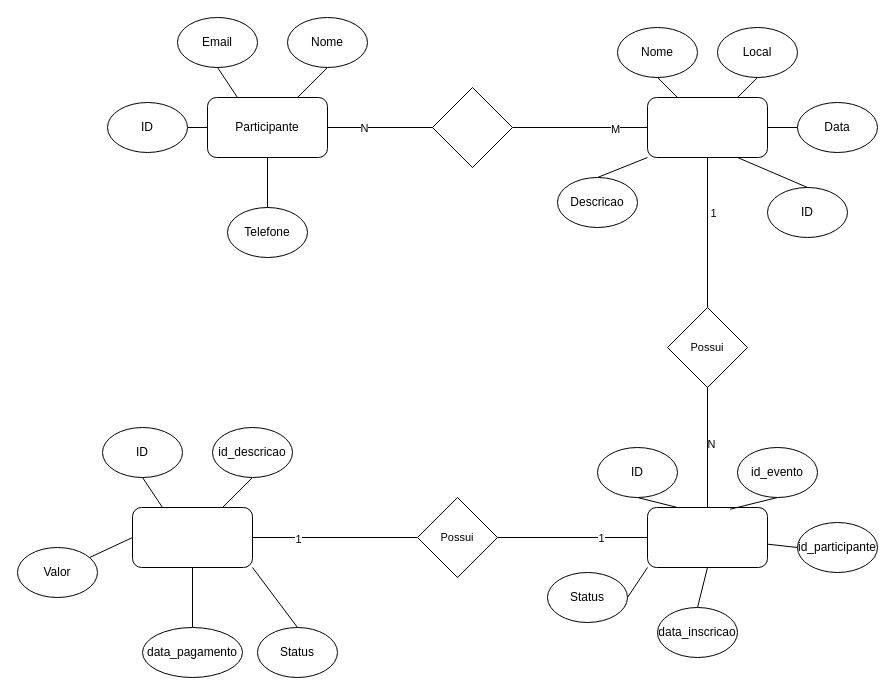
This 895x695 diagram has some shape labels left out. Here are the shapes that lost their labels. From the top down, the centre of each, then its label:
At (x=472, y=127): "Participa".
At (x=707, y=127): "Evento".
At (x=192, y=537): "Pagamento".
At (x=707, y=537): "Inscricao".
